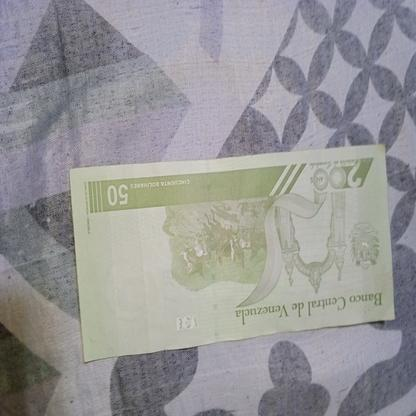fifty-back-vef: (69, 143, 396, 362)
